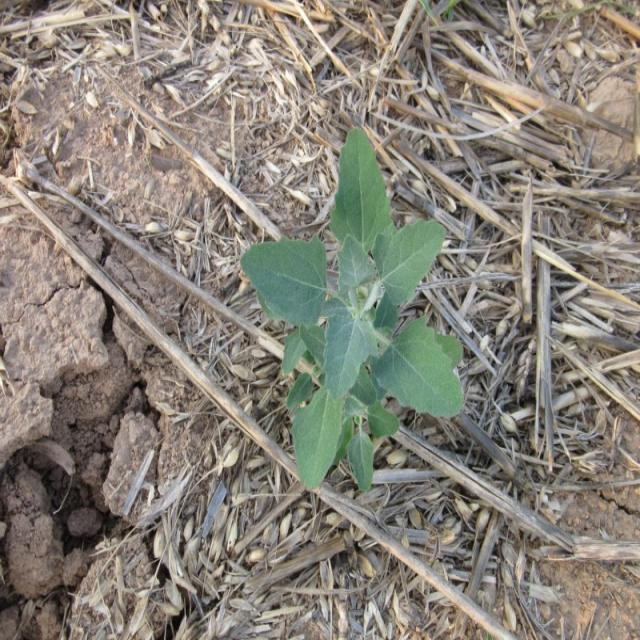ca: (240, 124, 468, 483)
